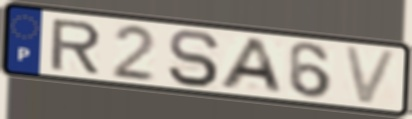2: (110, 23, 159, 83)
6: (287, 40, 336, 101)
A: (215, 36, 287, 96)
R: (47, 18, 103, 75)
S: (165, 28, 222, 90)
V: (341, 44, 402, 108)
